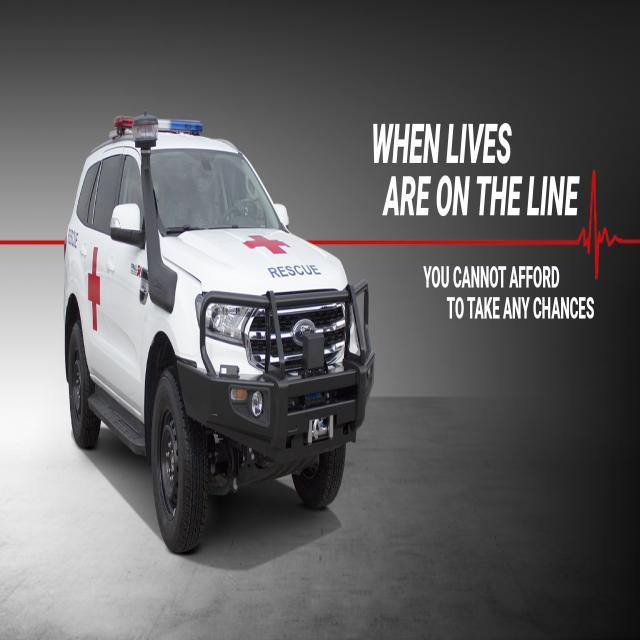emergency-vehicle: (54, 88, 378, 566)
